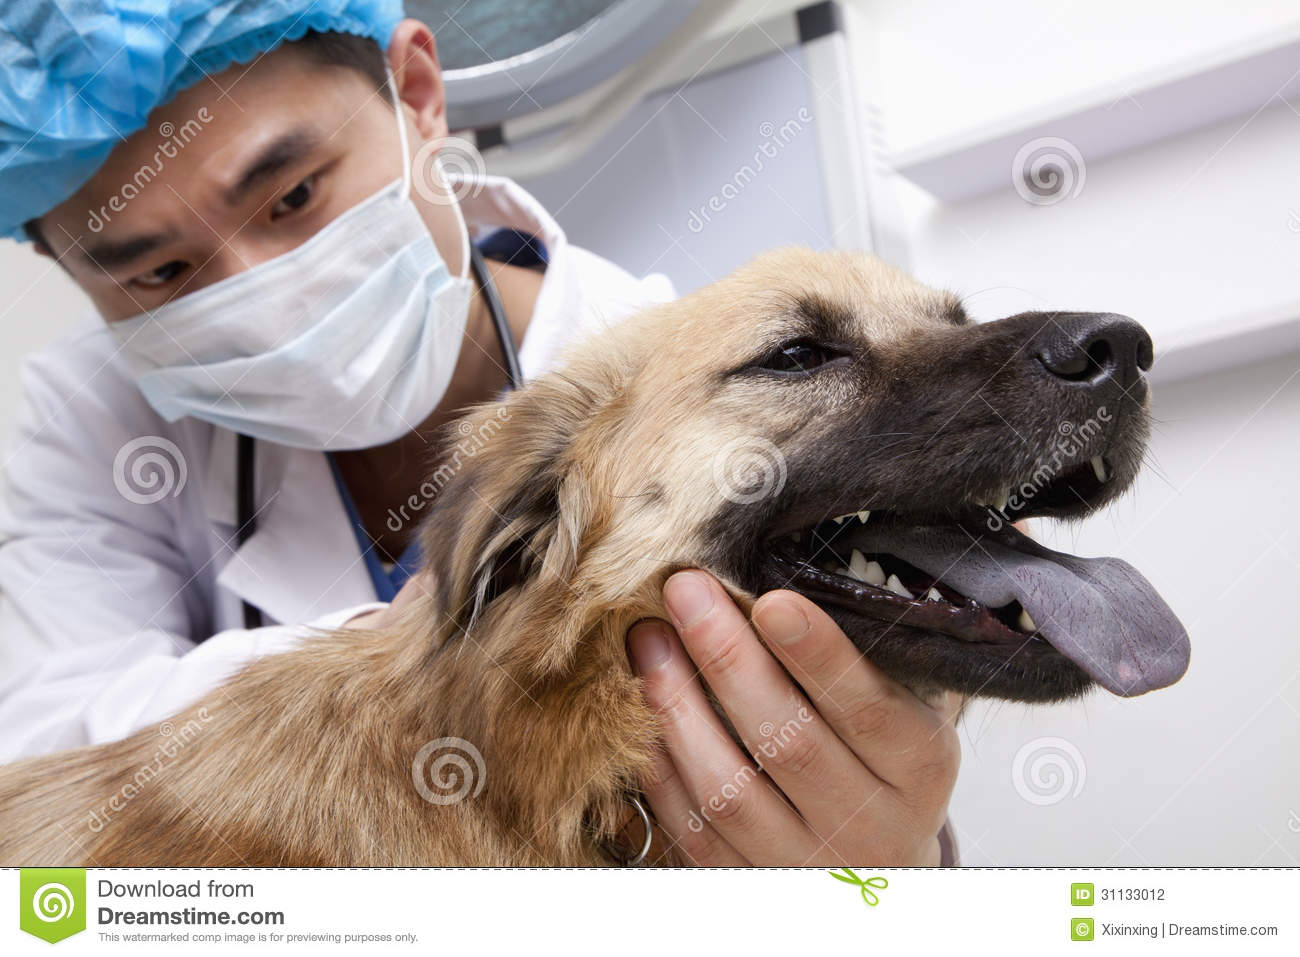mask: (129, 238, 481, 461)
